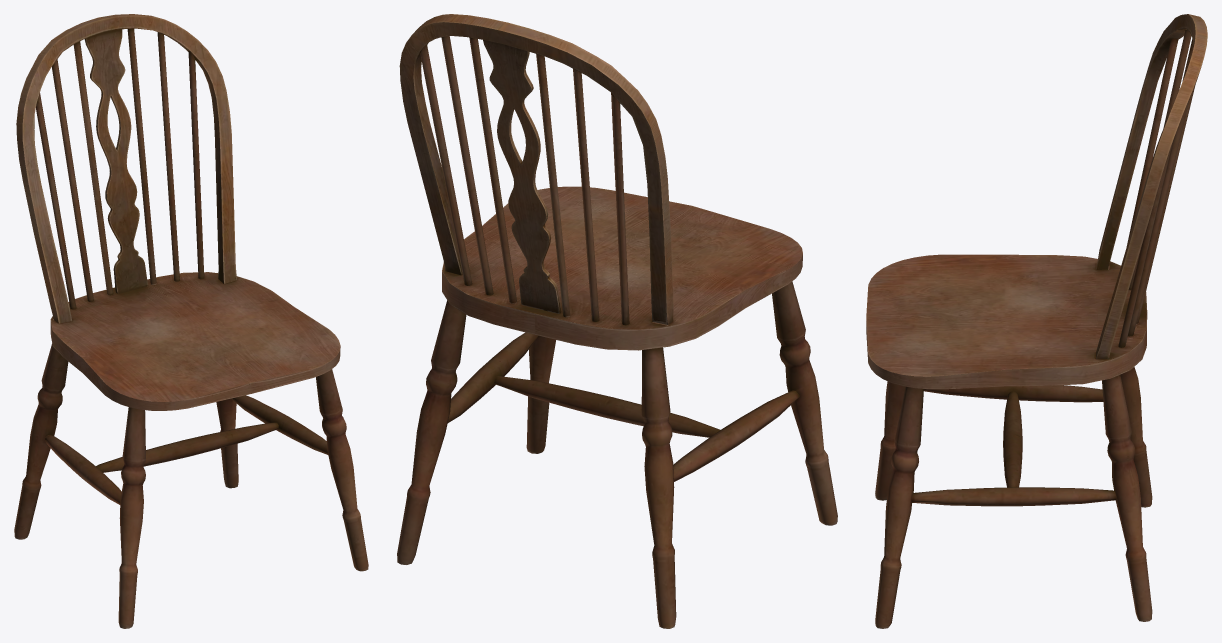
Rendered from chair9-transformed.glb.
The picture shows the model from 3 angles, left to right: view 1: azimuth 30°, elevation 25°; view 2: azimuth 150°, elevation 25°; view 3: azimuth 270°, elevation 25°; orthographic projection. The views are drawn at different scales.
Parts seen in each view (by area): view 1: chair_middle.001_Material.003_0; view 2: chair_middle.001_Material.003_0; view 3: chair_middle.001_Material.003_0.
Part boxes in pixels (bbox=[...]): chair_middle.001_Material.003_0: bbox=[14, 14, 368, 628]; chair_middle.001_Material.003_0: bbox=[397, 14, 837, 628]; chair_middle.001_Material.003_0: bbox=[866, 14, 1207, 628].
Size of the model in its own units: 0.5321 by 0.975 by 0.5701.
Materials: 1 (1 with a texture image).
